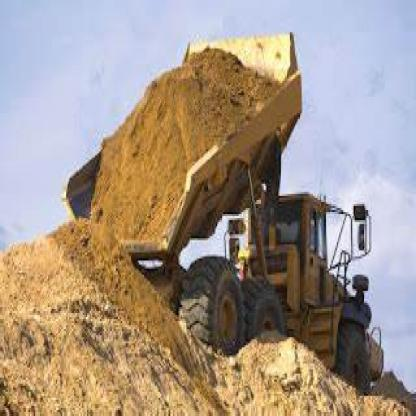dump_truck: (58, 26, 388, 386)
